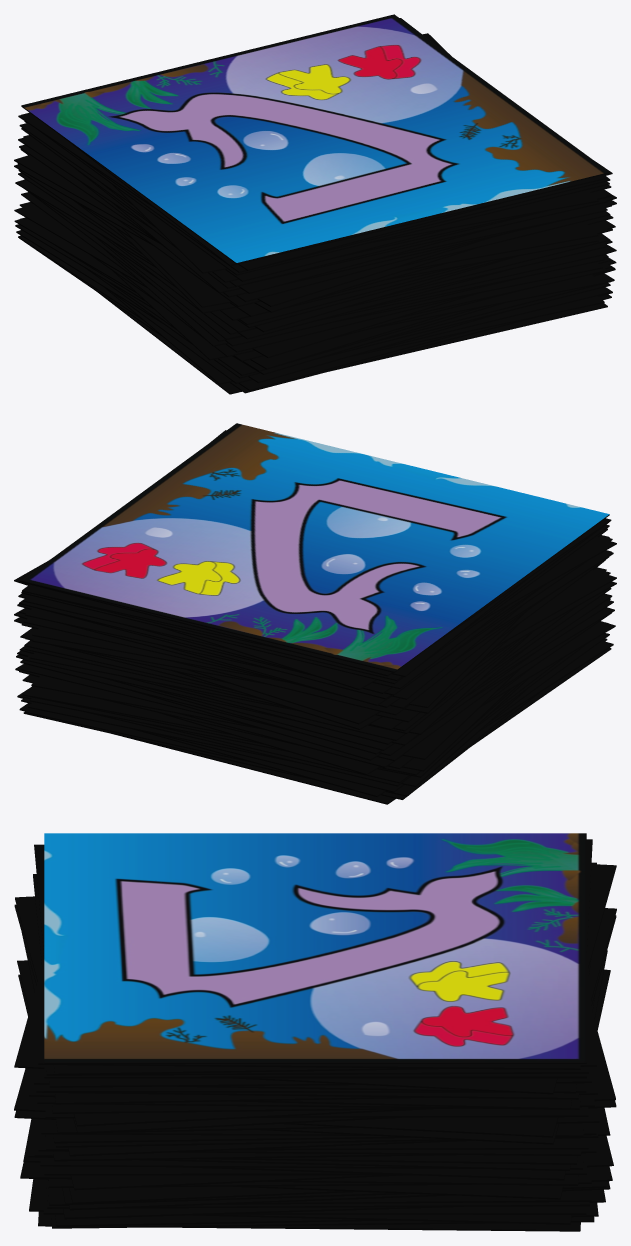
The model's file is tile_pille.fbx.
3 renders of one model, top to bottom at view 1: azimuth 30°, elevation 25°; view 2: azimuth 150°, elevation 25°; view 3: azimuth 270°, elevation 25°, orthographic. The views are drawn at different scales.
Visible parts, largest first — view 1: Cube.001, Cube; view 2: Cube.001, Cube; view 3: Cube.001, Cube.
Boxes of the visible parts, x1,y1,x2,y2 form: Cube.001: (21, 14, 609, 264); Cube: (14, 18, 616, 394); Cube.001: (21, 423, 609, 672); Cube: (14, 430, 616, 804); Cube.001: (44, 833, 586, 1063); Cube: (14, 839, 616, 1231).
Size of the model in its own units: 113 by 34.5 by 113.
